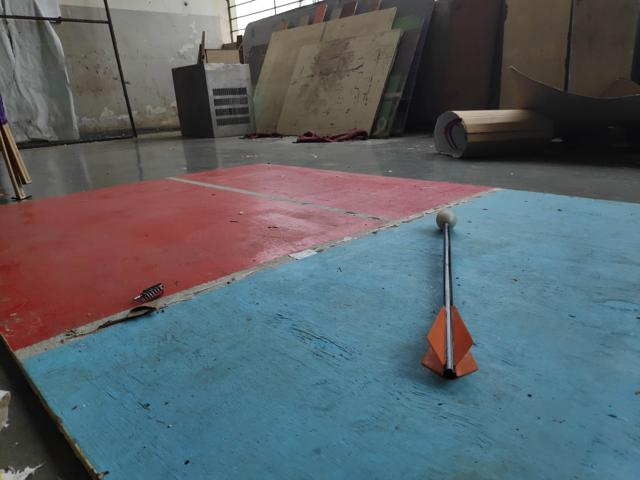Head: (433, 207, 458, 232)
Tail: (419, 303, 479, 382)
